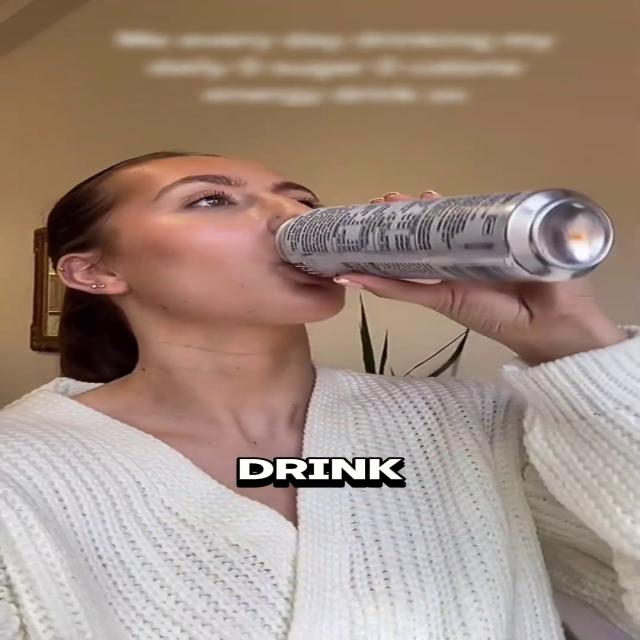Can: (279, 187, 615, 284)
Hand: (345, 184, 619, 318)
Mouth: (270, 242, 342, 290)
